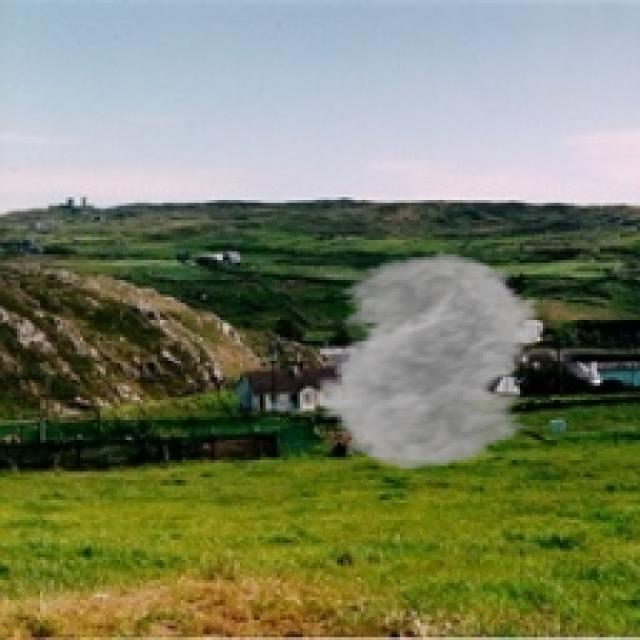smoke: (294, 252, 572, 472)
